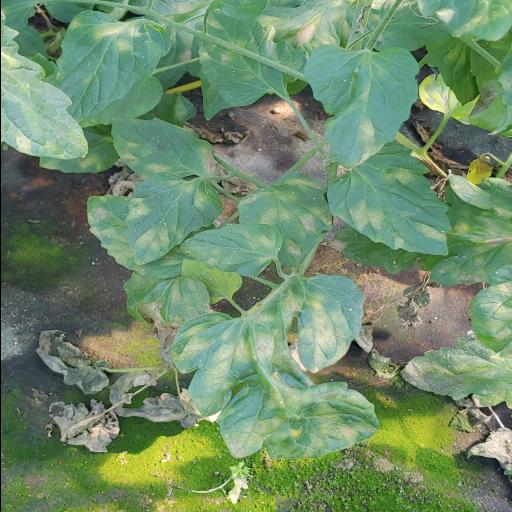Leaf Mold: (170, 274, 380, 462), (326, 140, 452, 256), (303, 44, 420, 168), (52, 10, 172, 122), (123, 172, 223, 266), (236, 174, 330, 270), (110, 118, 216, 178), (180, 223, 284, 277)
